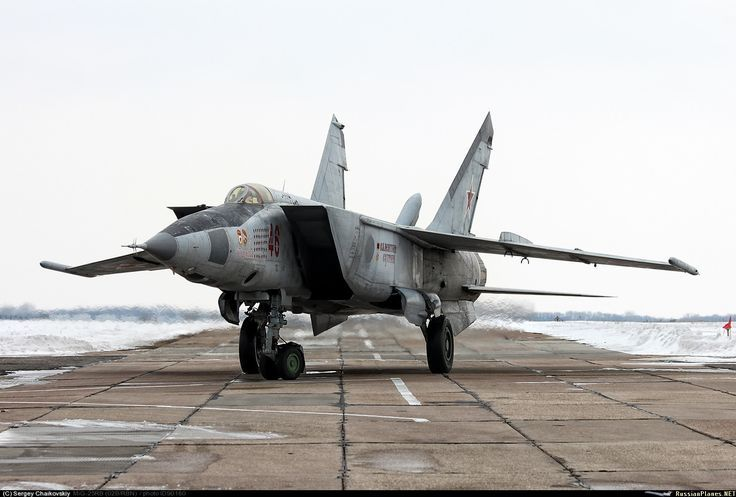Aeronef_militaire: (28, 102, 708, 393)
